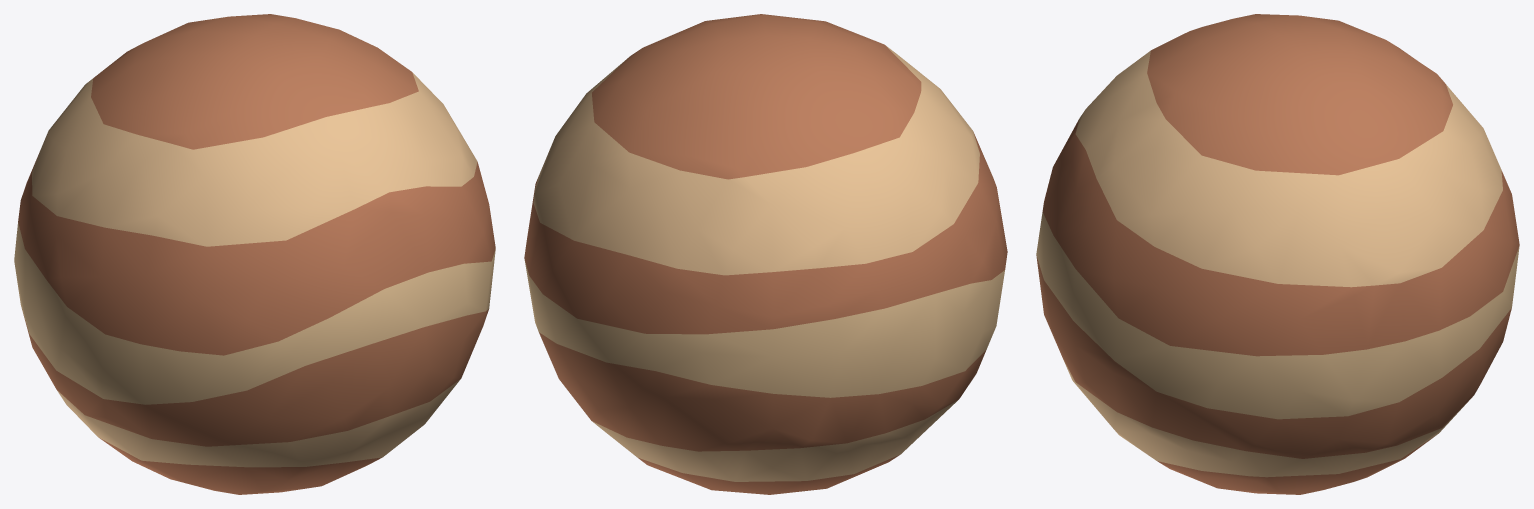
The model's file is Jupiter.obj.
The picture shows the model from 3 angles, left to right: view 1: azimuth 30°, elevation 25°; view 2: azimuth 150°, elevation 25°; view 3: azimuth 270°, elevation 25°; orthographic projection.
Visible parts, largest first — view 1: Jupiter; view 2: Jupiter; view 3: Jupiter.
Part boxes in pixels (bbox=[...]): Jupiter: bbox=[14, 14, 495, 494]; Jupiter: bbox=[524, 14, 1007, 494]; Jupiter: bbox=[1036, 14, 1519, 494].
Size of the model in its own units: 16.89 by 16.96 by 16.95.
